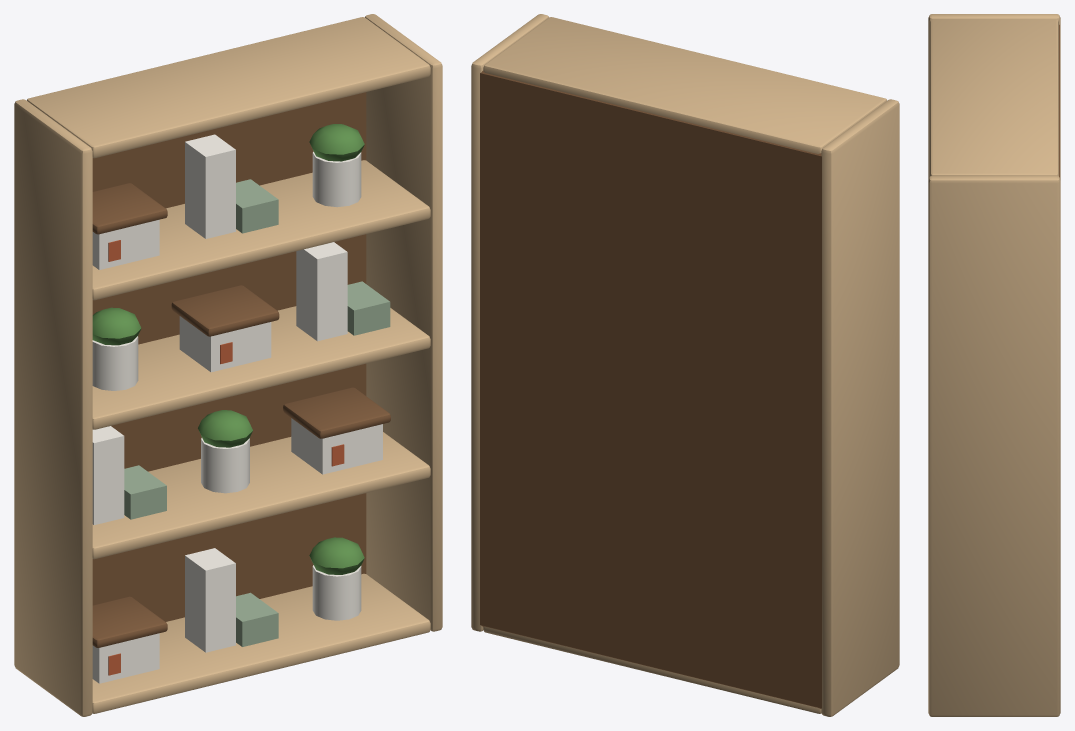
Rendered from model_shelf.glb.
3 renders of one model, left to right at view 1: azimuth 30°, elevation 25°; view 2: azimuth 150°, elevation 25°; view 3: azimuth 270°, elevation 25°, orthographic. The views are drawn at different scales.
Visible parts, largest first — view 1: FURN-model_shelf; view 2: FURN-model_shelf; view 3: FURN-model_shelf.
Part boxes in pixels (left/top/right/bottom): FURN-model_shelf: left=14, top=14, right=442, bottom=716; FURN-model_shelf: left=471, top=14, right=899, bottom=716; FURN-model_shelf: left=928, top=14, right=1060, bottom=716.
Size of the model in its own units: 1.2 by 1.8 by 0.4.
